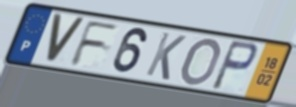6: (111, 27, 149, 75)
F: (67, 19, 122, 68)
K: (143, 30, 188, 83)
O: (179, 36, 224, 87)
P: (208, 39, 260, 93)
V: (44, 12, 87, 67)
